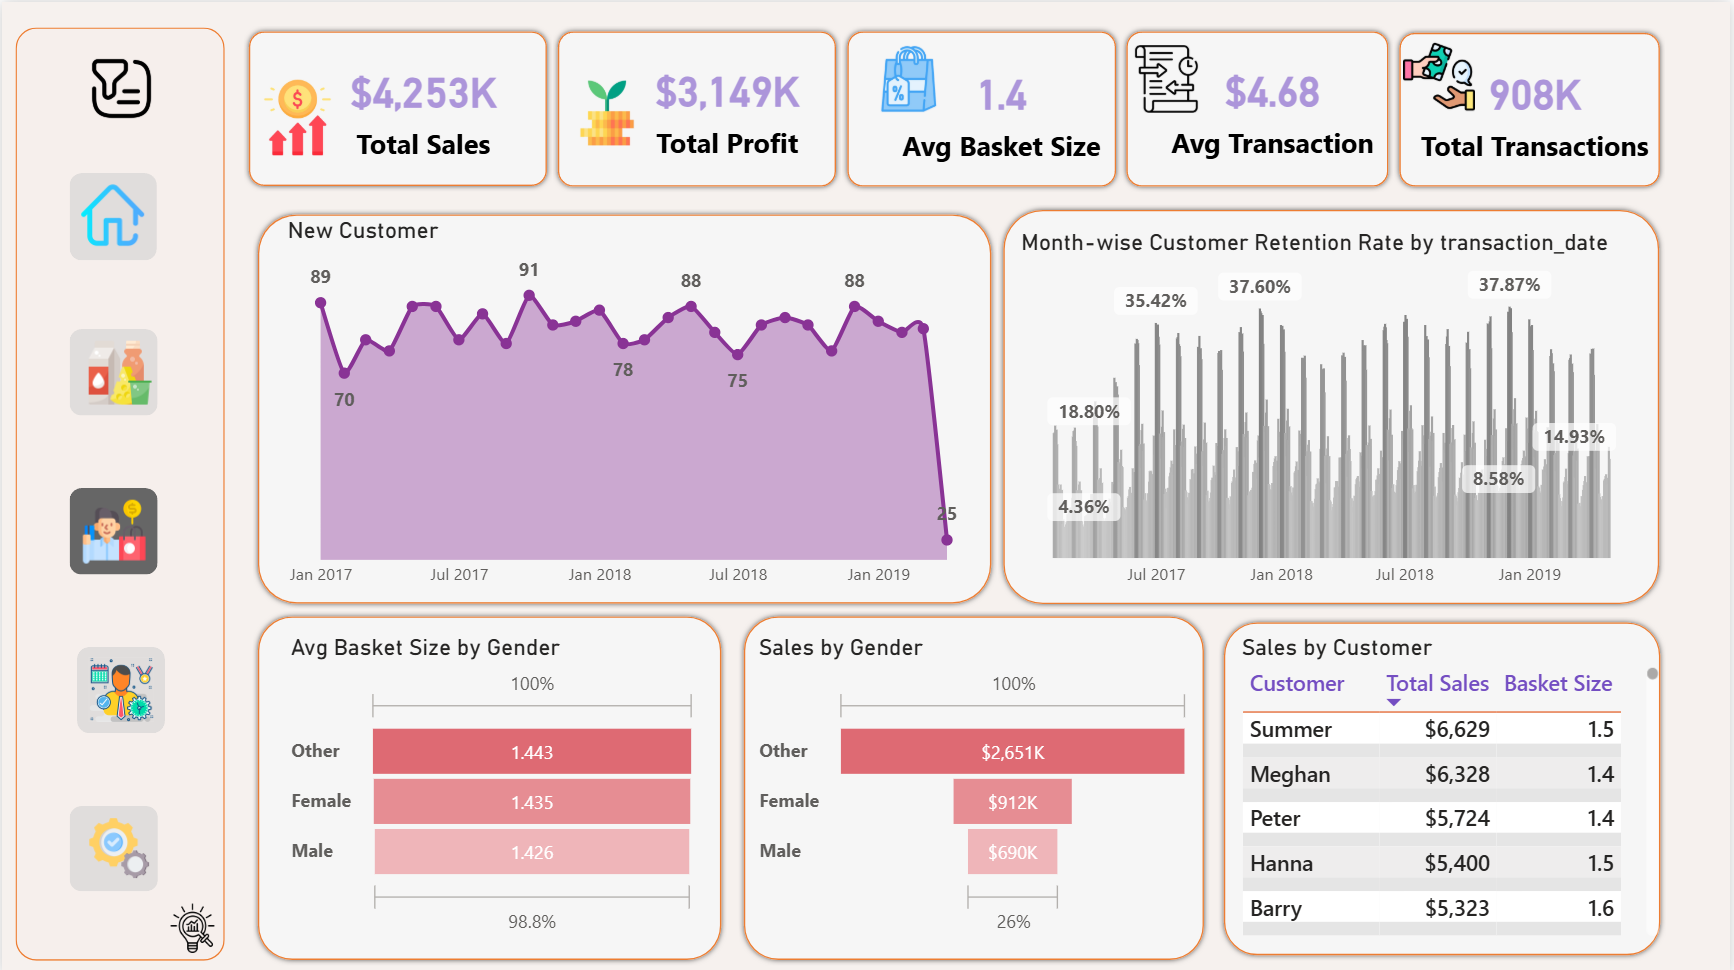

This screenshot's page, from the dashboard's own definition file:
{"tool":"powerbi","page":{"name":"Customer","canvas":[1280,720],"ordinal":2},"visuals":[{"type":"card","fields":{"Values":["DAX.Total Sales"]},"box":[217.8,17.8,188.9,116.7],"z":0,"group":"g1"},{"type":"shape","title":"Nav BG","box":[10,18.8,155,691.2],"z":0,"group":"g2"},{"type":"group","id":"g1","title":"Page1","box":[178.8,17.5,1053.8,695.6],"z":1000},{"type":"shape","box":[178.8,17.5,228.8,122.5],"z":1000,"group":"g1"},{"type":"image","title":"Filter_Img","box":[58.9,34.2,58.9,59],"z":1000,"group":"g2"},{"type":"shape","box":[408,18,214,123],"z":2000,"group":"g1"},{"type":"group","id":"g2","title":"Nav","box":[10,18.8,155,691.2],"z":2000},{"type":"shape","title":"operation_bg","box":[49.9,595.2,65.6,63.2],"z":2000,"group":"g2"},{"type":"shape","box":[622,18,207,123],"z":3000,"group":"g1"},{"type":"funnel","title":"Avg Basket Size by Gender","fields":{"Y":["DAX.Average Basket Size"],"Category":["Customer Lookup.gender"]},"box":[208.8,467.5,311.2,228.8],"z":3000},{"type":"shape","title":"Emp_bg","box":[55.9,477.6,65.1,63.9],"z":3000,"group":"g2"},{"type":"shape","box":[829,18,202,123],"z":4000,"group":"g1"},{"type":"shape","title":"Customer_bg","box":[49.9,359.9,65.4,64.3],"z":4000,"group":"g2"},{"type":"funnel","title":"Sales by Gender","fields":{"Y":["DAX.Total Sales"],"Category":["Customer Lookup.gender"]},"box":[555,467.5,330,228.8],"z":4000},{"type":"shape","box":[1031,18.2,200.9,121.8],"z":5000,"group":"g1"},{"type":"shape","title":"Home_bg","box":[49.9,126.8,64.8,64.9],"z":5000,"group":"g2"},{"type":"tableEx","title":"Sales by Customer","fields":{"Values":["Customer Lookup.customer_first-name","DAX.Total Sales","DAX.Avg Basket Size"]},"box":[913.8,467.5,318.8,228.8],"z":5000},{"type":"card","fields":{"Values":["DAX.Total Sales"]},"box":[218,21,188,114],"z":6000,"group":"g1"},{"type":"lineStackedColumnComboChart","fields":{"Category":["Sales_by_Store.transaction_date"],"Y":["DAX.Month-wise Customer Retention Rate"]},"box":[750,167.5,471.2,273.8],"z":6000},{"type":"shape","title":"Product_bg","box":[49.9,242.4,65.4,64.3],"z":6000,"group":"g2"},{"type":"card","fields":{"Values":["DAX.Total Profit"]},"box":[459,21,156,113],"z":7000,"group":"g1"},{"type":"image","title":"Operation_img","box":[57.9,598.2,57.6,57.7],"z":7000,"group":"g2"},{"type":"image","box":[117.5,661.2,46.2,50],"z":7000},{"type":"card","fields":{"Values":["DAX.Average Basket Size"]},"box":[660,24,160,111],"z":8000,"group":"g1"},{"type":"image","title":"Customer_img","box":[54.1,363.5,57.3,57.4],"z":8000,"group":"g2"},{"type":"card","fields":{"Values":["DAX.Average Transaction Value"]},"box":[853,21,175,113],"z":9000,"group":"g1"},{"type":"image","title":"Product_img","box":[58.6,245.5,57.3,58.6],"z":9000,"group":"g2"},{"type":"card","fields":{"Values":["DAX.Total Number of Transactions"]},"box":[1037.3,23.6,194.5,110.9],"z":10000,"group":"g1"},{"type":"image","title":"Emp_img","box":[58.6,480.2,58.6,58.6],"z":10000,"group":"g2"},{"type":"image","box":[185,52,66,67],"z":11000,"group":"g1"},{"type":"image","title":"Home_img","box":[53.6,128.7,57.3,57.4],"z":11000,"group":"g2"},{"type":"image","box":[419,52,58,60],"z":12000,"group":"g1"},{"type":"actionButton","title":"Home_Btn","box":[49.9,126.6,64.8,64.9],"z":12000,"group":"g2"},{"type":"image","box":[640,26,63,60],"z":13000,"group":"g1"},{"type":"actionButton","title":"Filter_btn","box":[58.9,33.6,58.8,58.9],"z":13000,"group":"g2"},{"type":"image","box":[1031,22.7,66.4,63.6],"z":14000,"group":"g1"},{"type":"actionButton","title":"Product_Btn","box":[49.9,242.1,64.8,64.9],"z":14000,"group":"g2"},{"type":"image","box":[829.1,26.4,67.3,60],"z":15000,"group":"g1"},{"type":"actionButton","title":"Emp_Btn","box":[55.9,477.6,64.8,64.9],"z":15000,"group":"g2"},{"type":"shape","box":[737.9,149.4,493.8,300],"z":16000,"group":"g1"},{"type":"actionButton","title":"Customer_Btn","box":[49.9,359.9,64.8,64.9],"z":16000,"group":"g2"},{"type":"shape","box":[185.4,153.1,551.2,296.2],"z":17000,"group":"g1"},{"type":"actionButton","title":"Operation_Btn","box":[49.9,594.4,64.8,64.9],"z":17000,"group":"g2"},{"type":"lineChart","title":"New Customer","fields":{"Category":["Calendar.Transaction_Date.Variation.Date Hierarchy.Year","Calendar.Transaction_Date.Variation.Date Hierarchy.Month"],"Y":["DAX.New Customers"]},"box":[207,159,522,283],"z":18000,"group":"g1"},{"type":"shape","box":[185.4,450.6,351.2,262.5],"z":19000,"group":"g1"},{"type":"shape","box":[545.4,450.6,348.8,262.5],"z":20000,"group":"g1"},{"type":"shape","box":[901.3,455.4,331.3,254.5],"z":21000,"group":"g1"}]}

Visuals, with their boxes in screenshot pixels (x1, y1, x2, y2), scaled from the page's 1280x720 canvas onto the 1734x970 screenshot:
card - DAX.Total Sales: locate(295, 24, 551, 181)
"Nav BG" shape: locate(14, 25, 224, 957)
"Page1" group: locate(242, 24, 1670, 961)
shape: locate(242, 24, 552, 189)
"Filter_Img" image: locate(80, 46, 160, 126)
shape: locate(553, 24, 843, 190)
"Nav" group: locate(14, 25, 224, 957)
"operation_bg" shape: locate(68, 802, 156, 887)
shape: locate(843, 24, 1123, 190)
"Avg Basket Size by Gender" funnel: locate(283, 630, 704, 938)
"Emp_bg" shape: locate(76, 643, 164, 730)
shape: locate(1123, 24, 1397, 190)
"Customer_bg" shape: locate(68, 485, 156, 571)
"Sales by Gender" funnel: locate(752, 630, 1199, 938)
shape: locate(1397, 25, 1669, 189)
"Home_bg" shape: locate(68, 171, 155, 258)
"Sales by Customer" tableEx: locate(1238, 630, 1670, 938)
card - DAX.Total Sales: locate(295, 28, 550, 182)
lineStackedColumnComboChart - Sales_by_Store.transaction_date x DAX.Month-wise Customer Retention Rate: locate(1016, 226, 1654, 595)
"Product_bg" shape: locate(68, 327, 156, 413)
card - DAX.Total Profit: locate(622, 28, 833, 181)
"Operation_img" image: locate(78, 806, 156, 884)
image: locate(159, 891, 222, 958)
card - DAX.Average Basket Size: locate(894, 32, 1111, 182)
"Customer_img" image: locate(73, 490, 151, 567)
card - DAX.Average Transaction Value: locate(1156, 28, 1393, 181)
"Product_img" image: locate(79, 331, 157, 410)
card - DAX.Total Number of Transactions: locate(1405, 32, 1669, 181)
"Emp_img" image: locate(79, 647, 159, 726)
image: locate(251, 70, 340, 160)
"Home_img" image: locate(73, 173, 150, 251)
image: locate(568, 70, 646, 151)
"Home_Btn" actionButton: locate(68, 171, 155, 258)
image: locate(867, 35, 952, 116)
"Filter_btn" actionButton: locate(80, 45, 159, 125)
image: locate(1397, 31, 1487, 116)
"Product_Btn" actionButton: locate(68, 326, 155, 414)
image: locate(1123, 36, 1214, 116)
"Emp_Btn" actionButton: locate(76, 643, 164, 731)
shape: locate(1000, 201, 1669, 605)
"Customer_Btn" actionButton: locate(68, 485, 155, 572)
shape: locate(251, 206, 998, 605)
"Operation_Btn" actionButton: locate(68, 801, 155, 888)
"New Customer" lineChart: locate(280, 214, 988, 595)
shape: locate(251, 607, 727, 961)
shape: locate(739, 607, 1211, 961)
shape: locate(1221, 614, 1670, 956)
